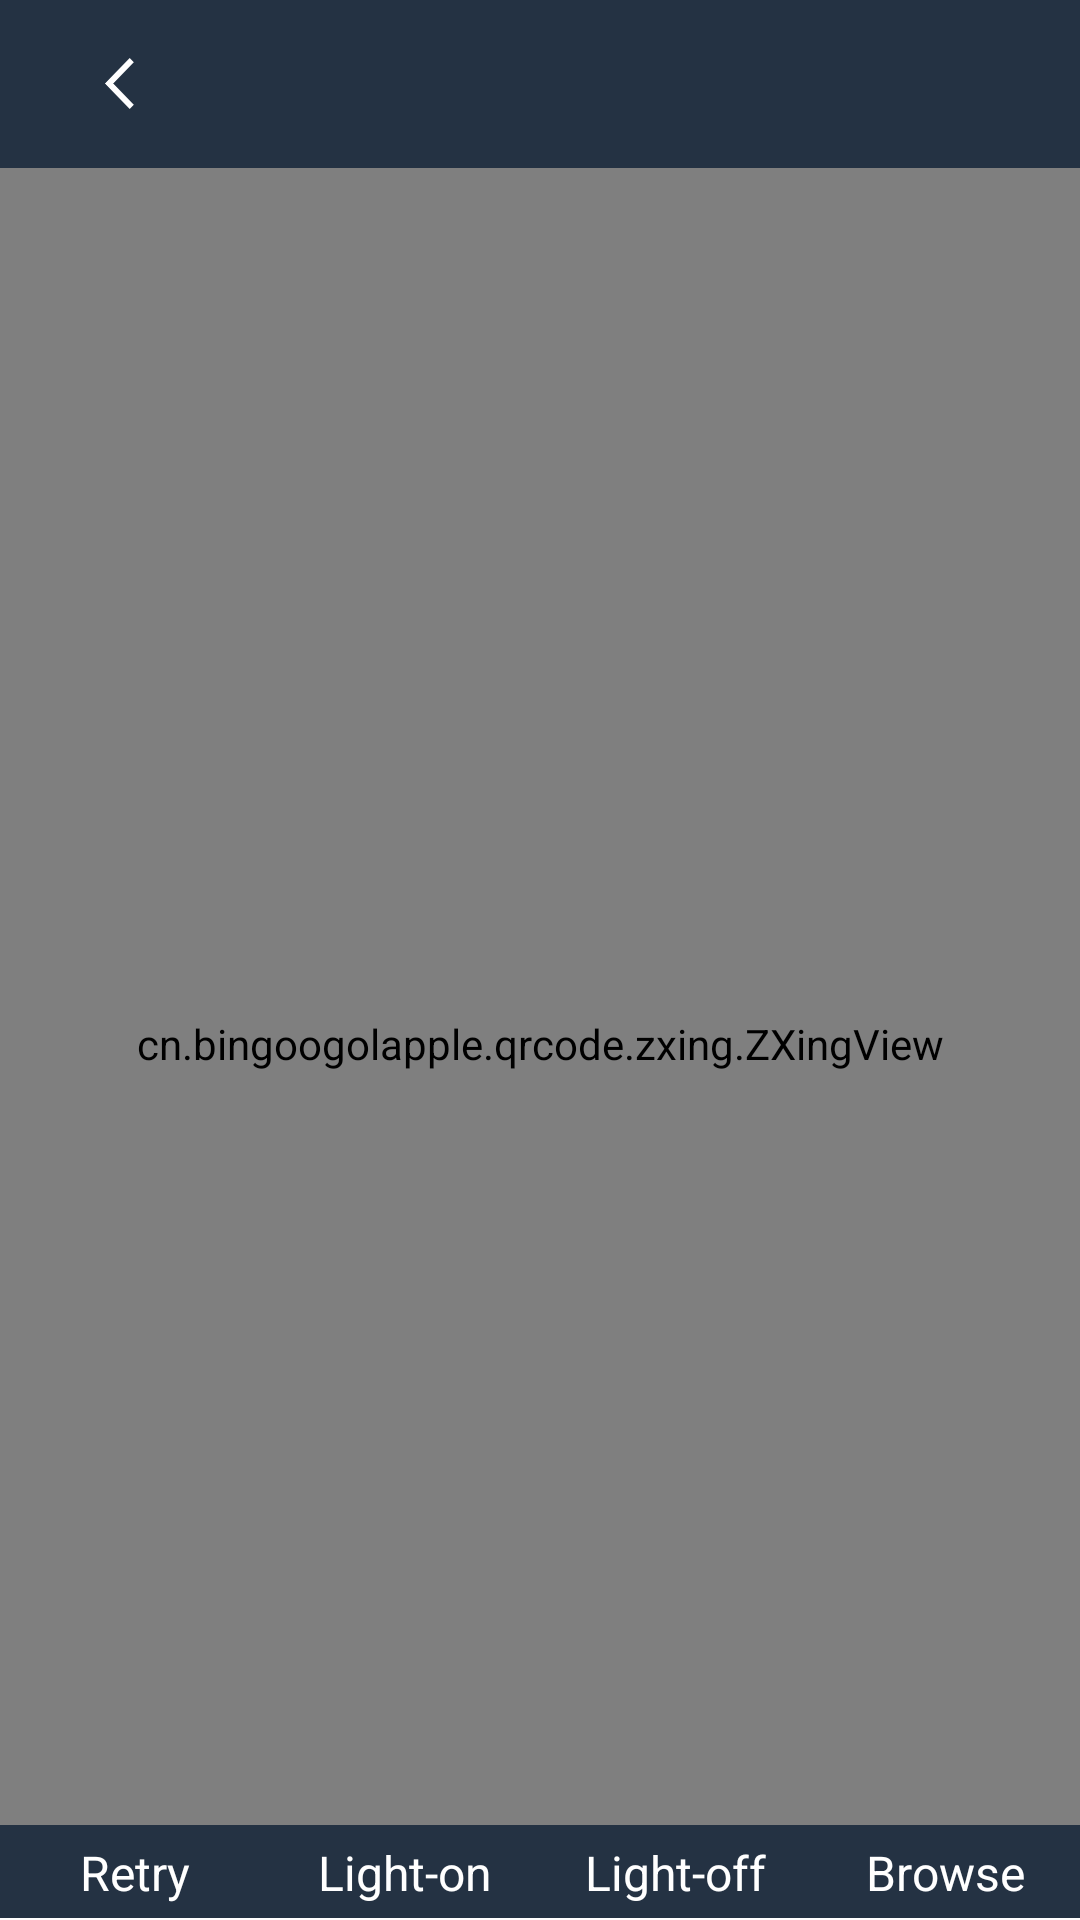

Icon bounding boxes for this 1080*1920 phone screenshot, format (x1, y1, x2, y2):
back: (105, 58, 134, 109)
